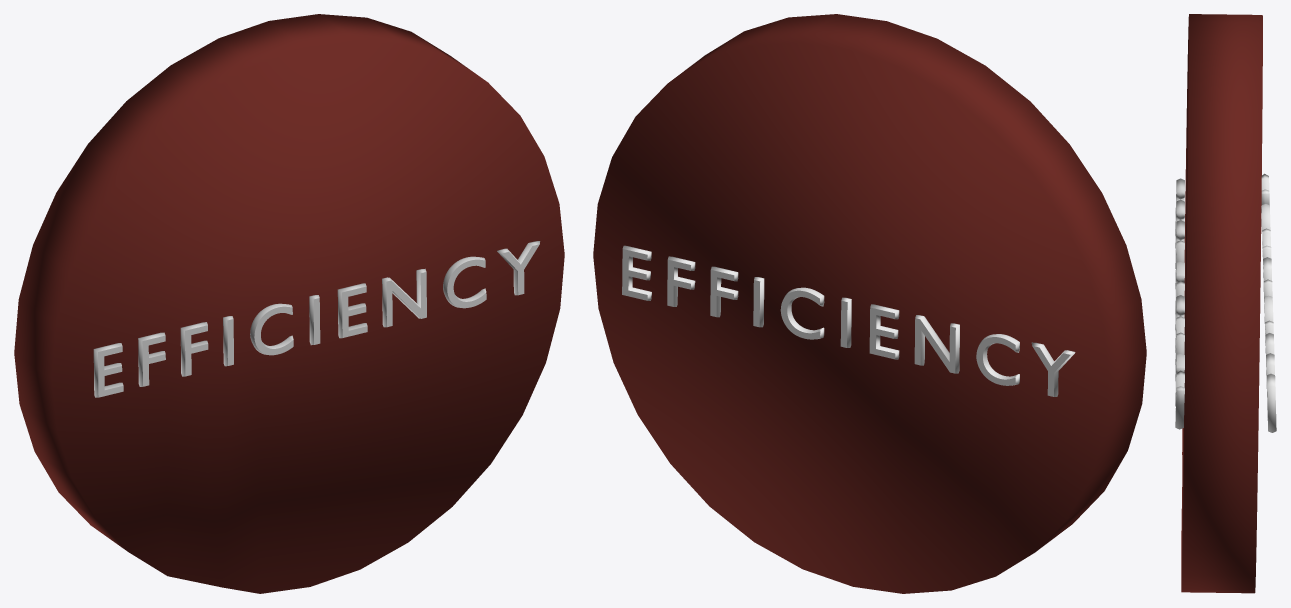
The model's file is efficiencysparkred.glb.
3 renders of one model, left to right at view 1: azimuth 30°, elevation 25°; view 2: azimuth 150°, elevation 25°; view 3: azimuth 270°, elevation 25°, orthographic. The views are drawn at different scales.
Parts seen in each view (by area): view 1: Circle, Efficiency Spark; view 2: Circle, Efficiency Spark.001; view 3: Circle, Efficiency Spark, Efficiency Spark.001.
Boxes of the visible parts, box(x1,y1,x2,y2) form: Circle: box(14, 14, 564, 593); Efficiency Spark: box(93, 241, 540, 397); Circle: box(593, 14, 1146, 593); Efficiency Spark.001: box(622, 245, 1075, 396); Circle: box(1181, 14, 1262, 593); Efficiency Spark: box(1175, 178, 1184, 429); Efficiency Spark.001: box(1261, 173, 1276, 432).
Bounding box in the file's own units: 8.56 × 8.58 × 1.5.
